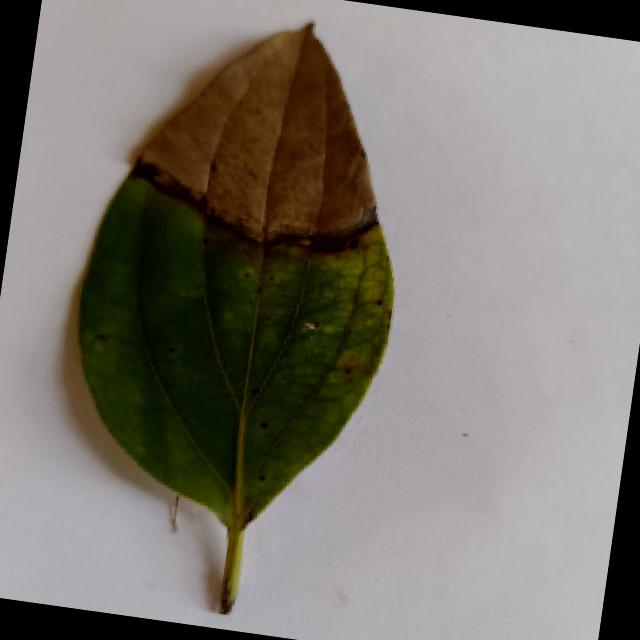footrot: (39, 0, 430, 619)
